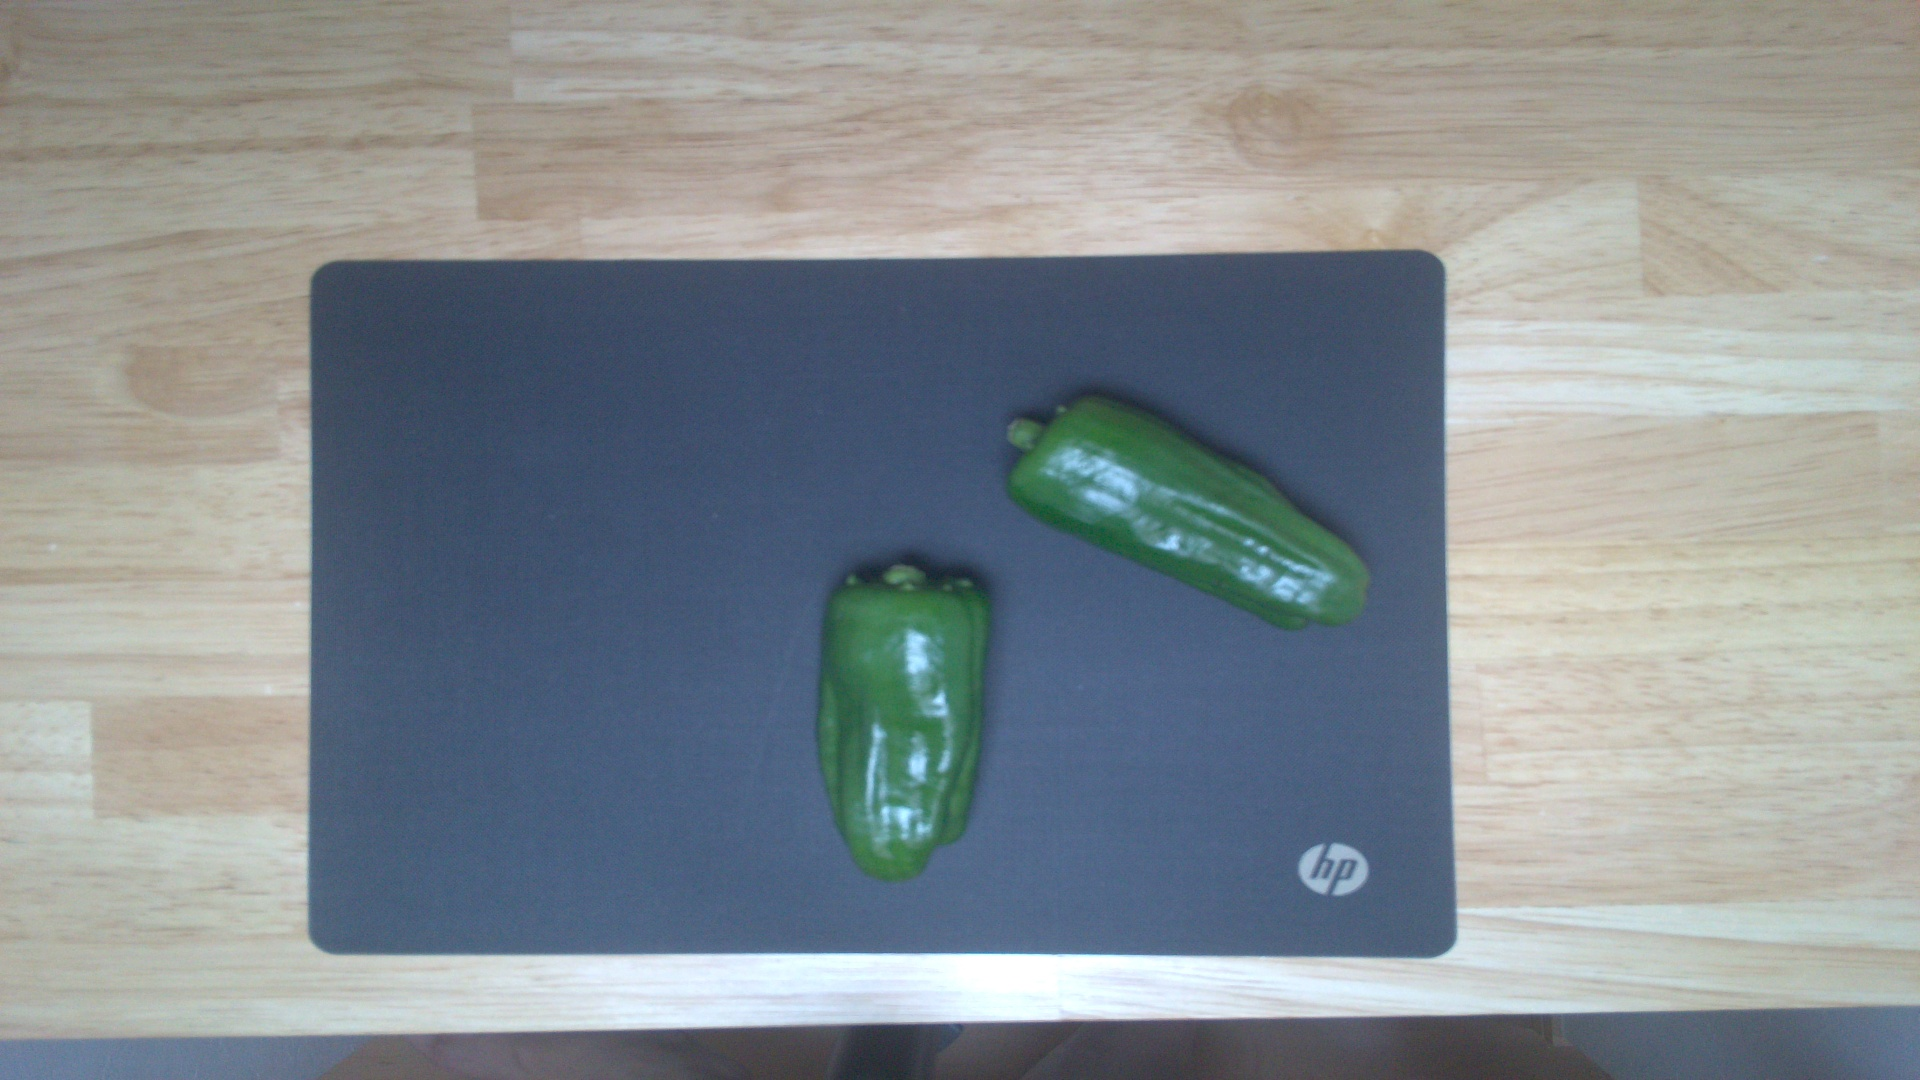Piman: (1002, 389, 1375, 636), (812, 560, 996, 887)
